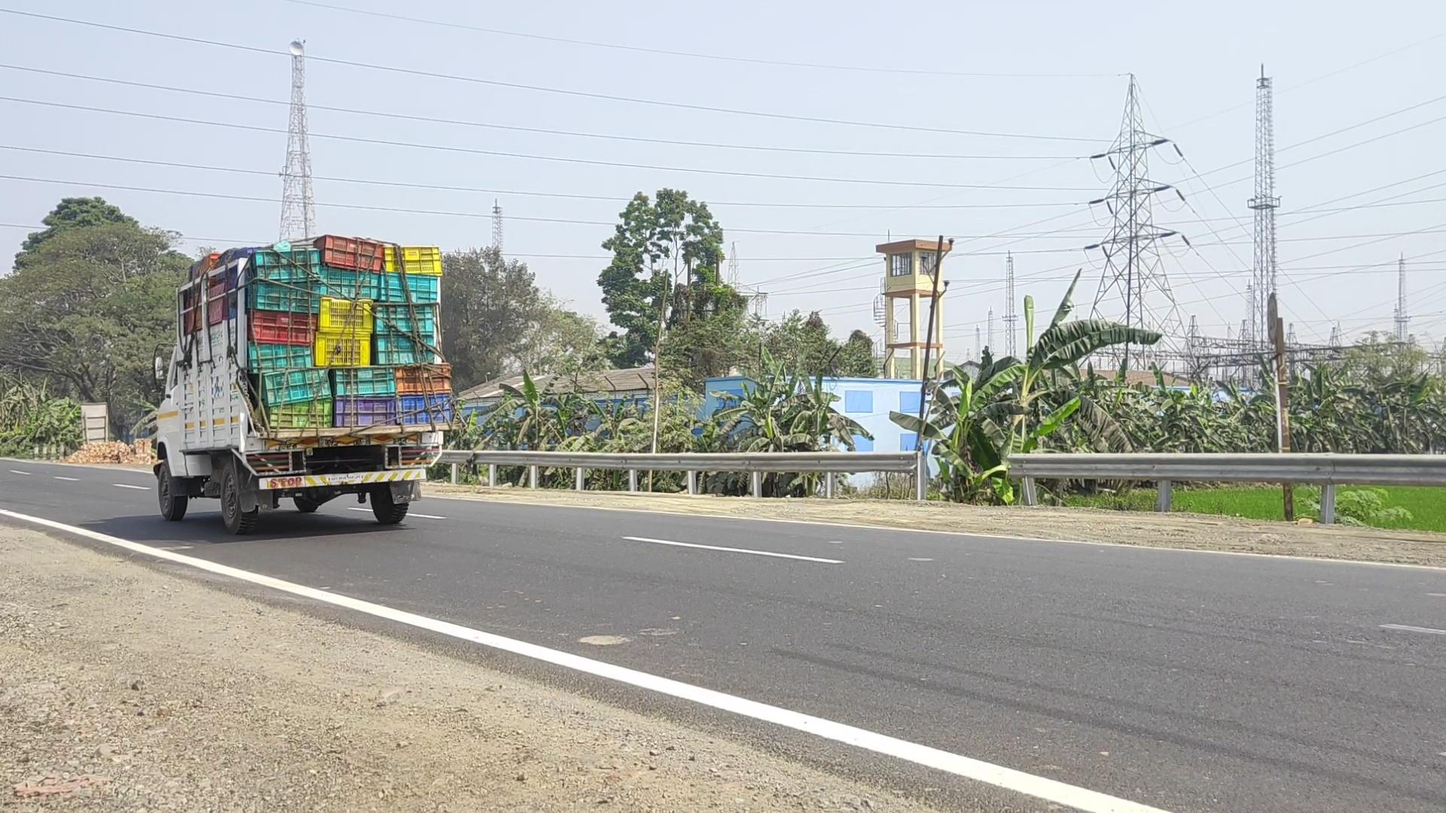truck: (151, 234, 457, 535)
